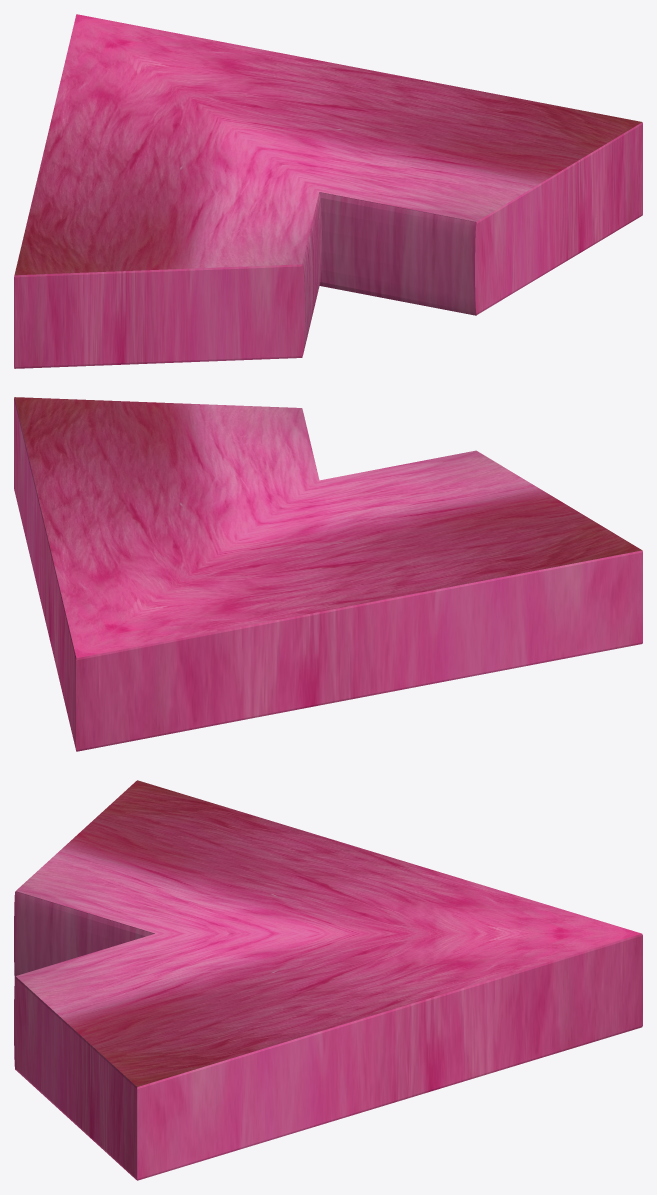
Rendered from Corazonsalma.obj.
The picture shows the model from 3 angles, top to bottom: view 1: azimuth 30°, elevation 25°; view 2: azimuth 150°, elevation 25°; view 3: azimuth 270°, elevation 25°; orthographic projection.
Visible parts, largest first — view 1: corazon:shelf; view 2: corazon:shelf; view 3: corazon:shelf.
Part boxes in pixels (box(x1,y1,x2,y2)): corazon:shelf: box(14, 14, 642, 368); corazon:shelf: box(14, 397, 642, 751); corazon:shelf: box(14, 780, 642, 1180).
Bounding box in the file's own units: 3.94 × 0.5626 × 3.41.
1 material, 1 textured.
